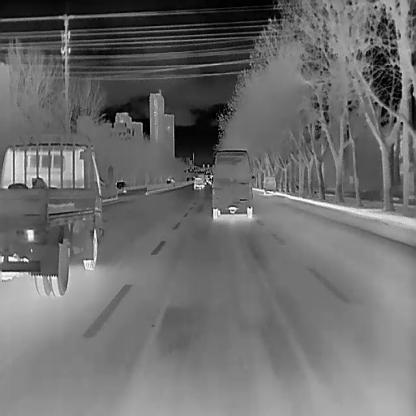car: (211, 148, 252, 218), (263, 174, 275, 192), (114, 180, 127, 194)
truck: (0, 135, 112, 295), (192, 176, 204, 188)
